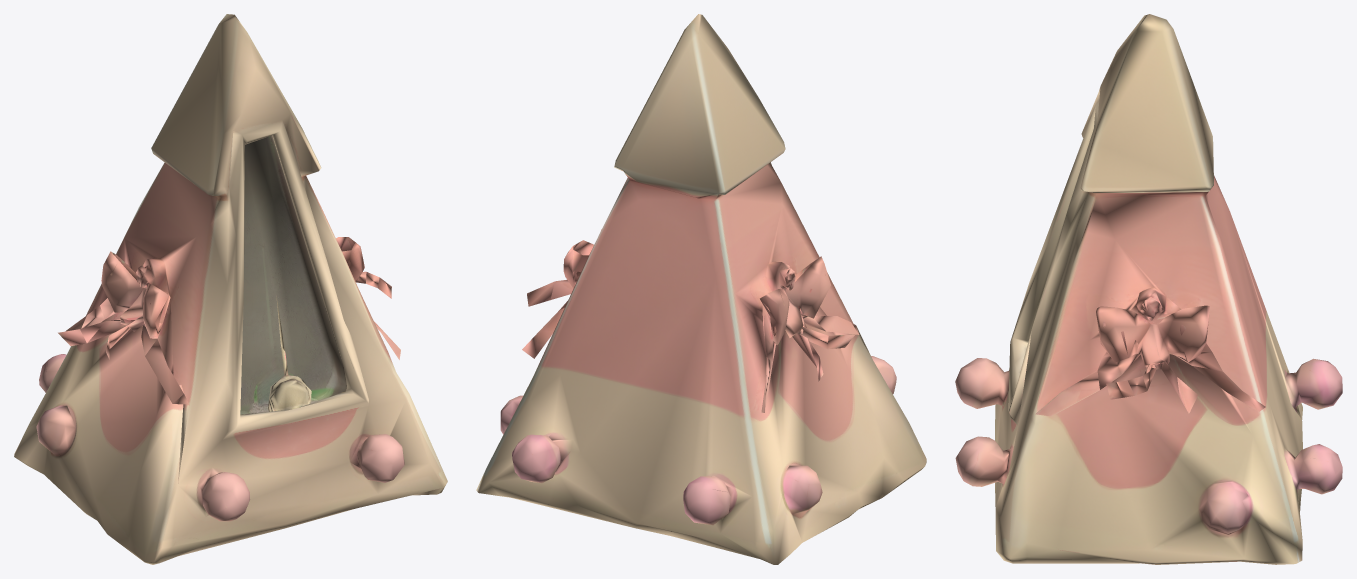
File: regr_metronome.fbx
3 views of the same model, side by side, from view 1: azimuth 30°, elevation 25°; view 2: azimuth 150°, elevation 25°; view 3: azimuth 270°, elevation 25° (orthographic). The views are drawn at different scales.
Visible parts, largest first — view 1: Mesh1.0; view 2: Mesh1.0; view 3: Mesh1.0.
Boxes of the visible parts, x1=… form: Mesh1.0: x1=14, y1=14, x2=447, y2=564; Mesh1.0: x1=476, y1=14, x2=926, y2=564; Mesh1.0: x1=955, y1=14, x2=1342, y2=564.
Size of the model in its own units: 134 by 190 by 138.
Materials: 1 (1 with a texture image).
